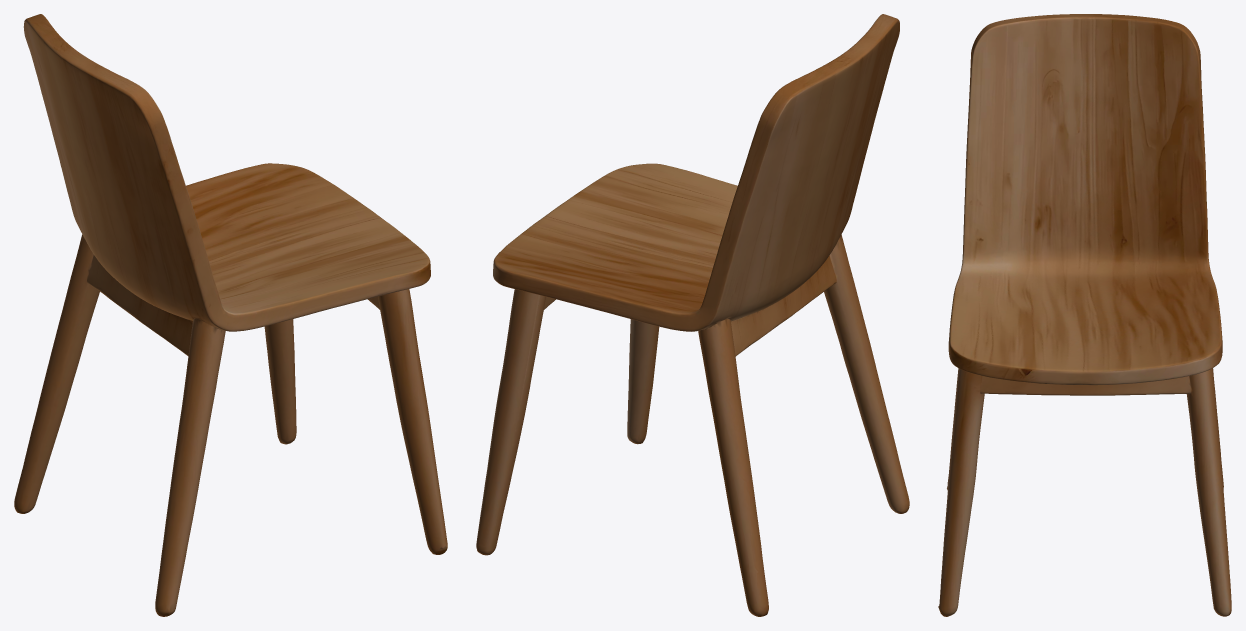
Rendered from chair-dining.glb.
3 views of the same model, side by side, from view 1: azimuth 30°, elevation 25°; view 2: azimuth 150°, elevation 25°; view 3: azimuth 270°, elevation 25° (orthographic). The views are drawn at different scales.
Visible parts, largest first — view 1: tripo_node_d264f5ac-37d9-4935-8205-69bfead5fbcf; view 2: tripo_node_d264f5ac-37d9-4935-8205-69bfead5fbcf; view 3: tripo_node_d264f5ac-37d9-4935-8205-69bfead5fbcf.
Part boxes in pixels (left/top/right/bottom): tripo_node_d264f5ac-37d9-4935-8205-69bfead5fbcf: left=14, top=14, right=447, bottom=616; tripo_node_d264f5ac-37d9-4935-8205-69bfead5fbcf: left=476, top=14, right=909, bottom=616; tripo_node_d264f5ac-37d9-4935-8205-69bfead5fbcf: left=938, top=14, right=1231, bottom=616.
Bounding box in the file's own units: 0.5489 × 0.85 × 0.4793.
Materials: 1 (1 with a texture image).
